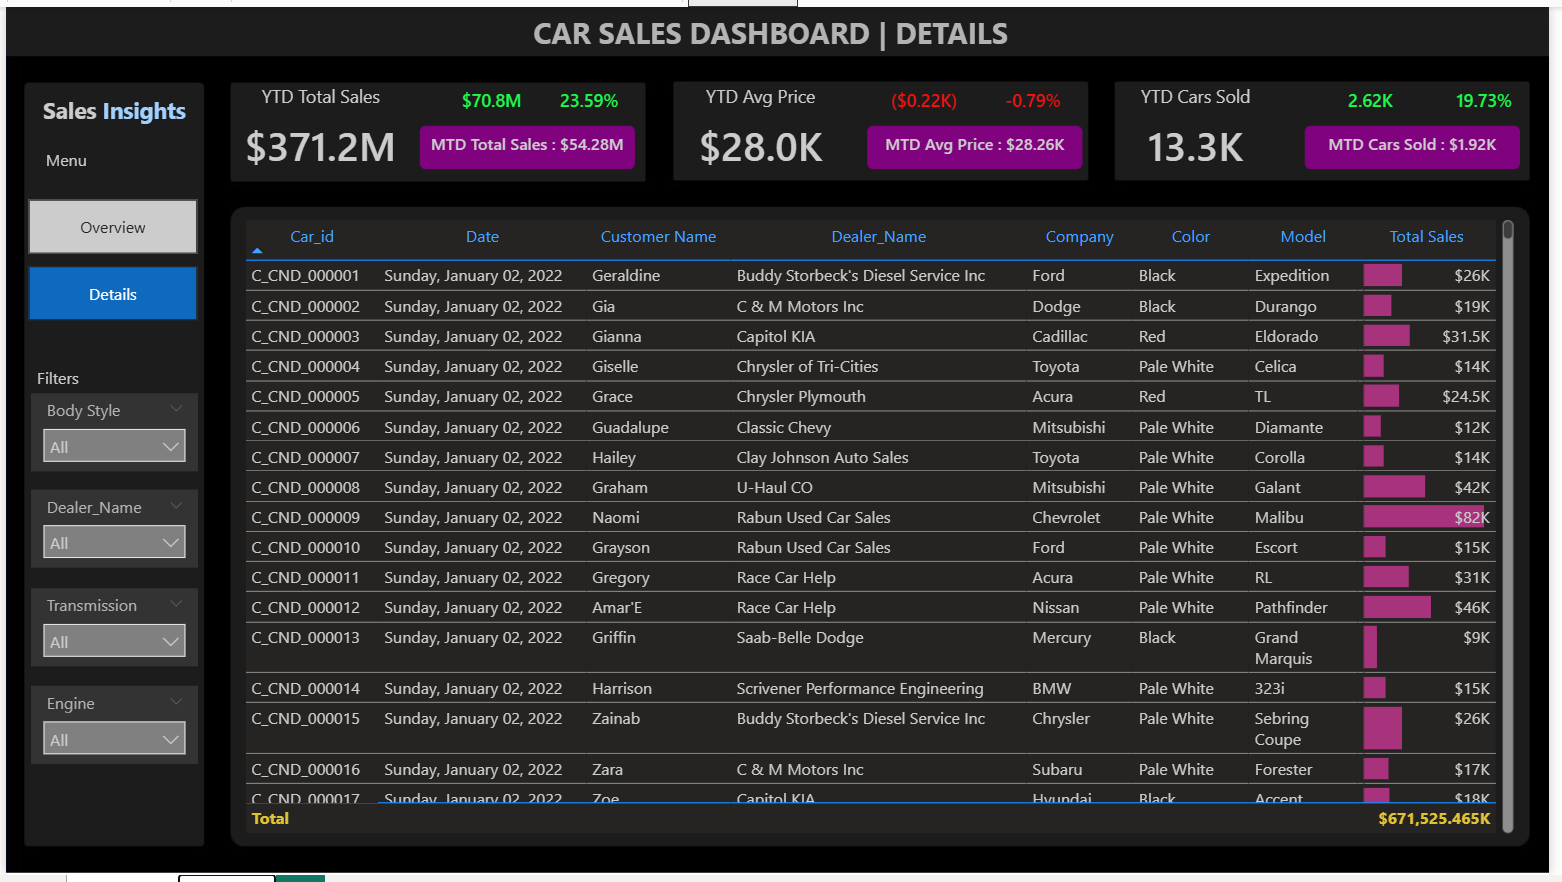

The page's visual inventory and layout, read from the dashboard file:
{"tool":"powerbi","page":{"name":"Details","canvas":[1280,720],"ordinal":1},"visuals":[{"type":"card","title":"YTD Total Sales","fields":{"Values":["car_data.YTD Total Sales"]},"box":[172.9,63.1,175.6,83.7],"z":0},{"type":"card","fields":{"Values":["car_data.Sales Difference"]},"box":[355.4,63.1,94.7,32.9],"z":1000},{"type":"card","fields":{"Values":["car_data.YOY Sales Growth"]},"box":[436.4,63.1,94.7,32.9],"z":2000},{"type":"card","fields":{"Values":["car_data.MTD KPI"]},"box":[343.1,98.8,178.4,35.7],"z":3000},{"type":"card","title":"YTD Avg Price","fields":{"Values":["car_data.YTD Avg Price"]},"box":[537.9,63.1,175.6,83.7],"z":4000},{"type":"card","fields":{"Values":["car_data.Avg Price Diff"]},"box":[713.6,63.1,94.7,32.9],"z":5000},{"type":"card","fields":{"Values":["car_data.YOY Avg Price Growth"]},"box":[804.1,63.1,94.7,32.9],"z":6000},{"type":"card","fields":{"Values":["car_data.MTD Avg Price KPI"]},"box":[713.6,98.8,178.4,35.7],"z":7000},{"type":"card","title":"YTD Cars Sold","fields":{"Values":["car_data.YTD Cars Sold"]},"box":[898.8,63.1,175.6,83.7],"z":8000},{"type":"card","fields":{"Values":["car_data.Cars Sold Diff"]},"box":[1084.1,63.1,94.7,32.9],"z":9000},{"type":"card","fields":{"Values":["car_data.YOY Cars Sold Growth"]},"box":[1178.7,63.1,94.7,32.9],"z":10000},{"type":"card","fields":{"Values":["car_data.MTD Cars Sold KPI"]},"box":[1077.2,98.8,178.4,35.7],"z":11000},{"type":"textbox","box":[432.6,0,443,47.7],"z":17000},{"type":"slicer","fields":{"Values":["car_data.Body Style"]},"box":[20.9,319.8,138.4,65.1],"z":18000},{"type":"slicer","fields":{"Values":["car_data.Dealer_Name"]},"box":[20.9,400,138.4,65.1],"z":19000},{"type":"slicer","fields":{"Values":["car_data.Transmission"]},"box":[20.9,481.4,138.4,65.1],"z":20000},{"type":"slicer","fields":{"Values":["car_data.Engine"]},"box":[20.9,562.8,138.4,65.1],"z":21000},{"type":"textbox","box":[20.9,293,55.8,33.7],"z":22000},{"type":"tableEx","fields":{"Values":["car_data.Car_id","car_data.Date","car_data.Customer Name","car_data.Dealer_Name","car_data.Company","car_data.Color","car_data.Model","car_data.Total Sales"]},"box":[193,172.1,1061.6,517.4],"z":22001},{"type":"textbox","box":[20.9,68.6,138.4,39.5],"z":22002},{"type":"pageNavigator","box":[18.6,159.3,140.7,100],"z":22003},{"type":"textbox","box":[27.9,112.8,91.9,33.7],"z":22004}]}

Visuals, with their boxes in screenshot pixels (x1, y1, x2, y2), scaled from the page's 1280x720 canvas onto the 1562x882 screenshot:
"YTD Total Sales" card: region(211, 77, 425, 180)
card - car_data.Sales Difference: region(434, 77, 549, 118)
card - car_data.YOY Sales Growth: region(533, 77, 648, 118)
card - car_data.MTD KPI: region(419, 121, 636, 165)
"YTD Avg Price" card: region(656, 77, 871, 180)
card - car_data.Avg Price Diff: region(871, 77, 986, 118)
card - car_data.YOY Avg Price Growth: region(981, 77, 1097, 118)
card - car_data.MTD Avg Price KPI: region(871, 121, 1089, 165)
"YTD Cars Sold" card: region(1097, 77, 1311, 180)
card - car_data.Cars Sold Diff: region(1323, 77, 1439, 118)
card - car_data.YOY Cars Sold Growth: region(1438, 77, 1554, 118)
card - car_data.MTD Cars Sold KPI: region(1315, 121, 1532, 165)
textbox: region(528, 0, 1069, 58)
slicer - car_data.Body Style: region(26, 392, 194, 472)
slicer - car_data.Dealer_Name: region(26, 490, 194, 570)
slicer - car_data.Transmission: region(26, 590, 194, 669)
slicer - car_data.Engine: region(26, 689, 194, 769)
textbox: region(26, 359, 94, 400)
tableEx - car_data.Car_id x car_data.Date: region(236, 211, 1531, 845)
textbox: region(26, 84, 194, 132)
pageNavigator: region(23, 195, 194, 318)
textbox: region(34, 138, 146, 179)
